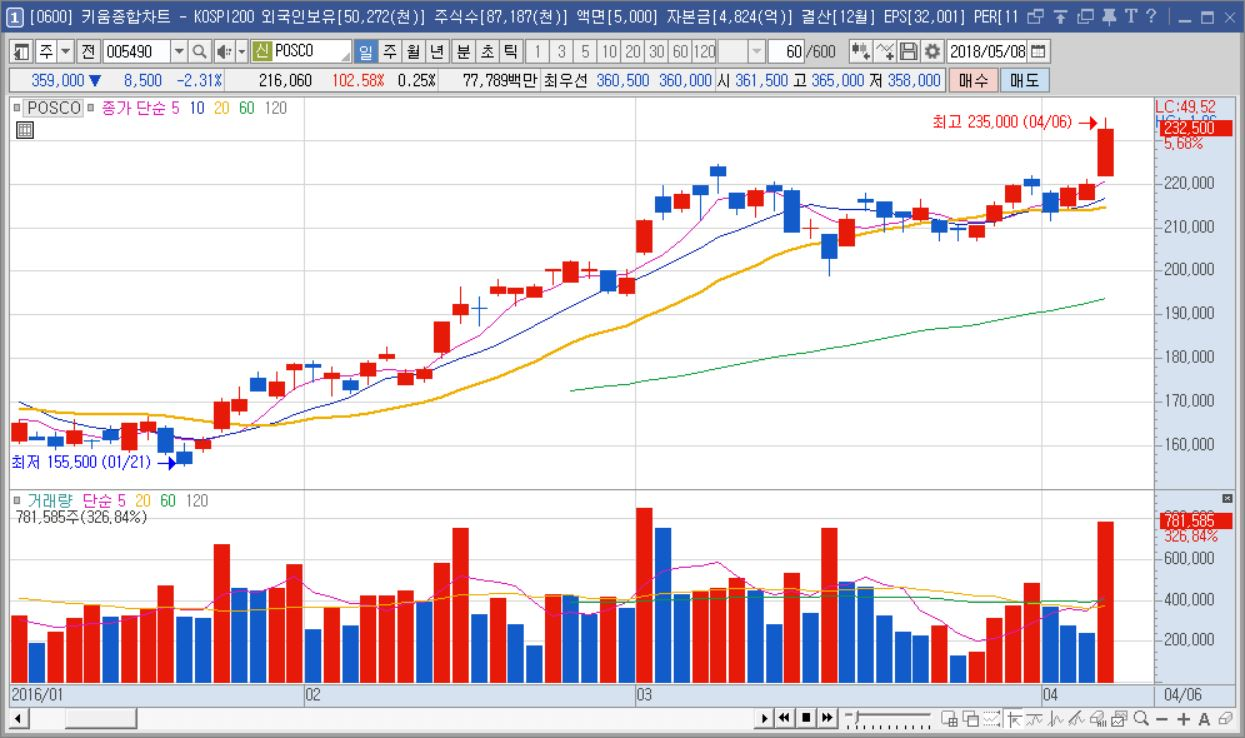up: (618, 109, 1116, 680)
